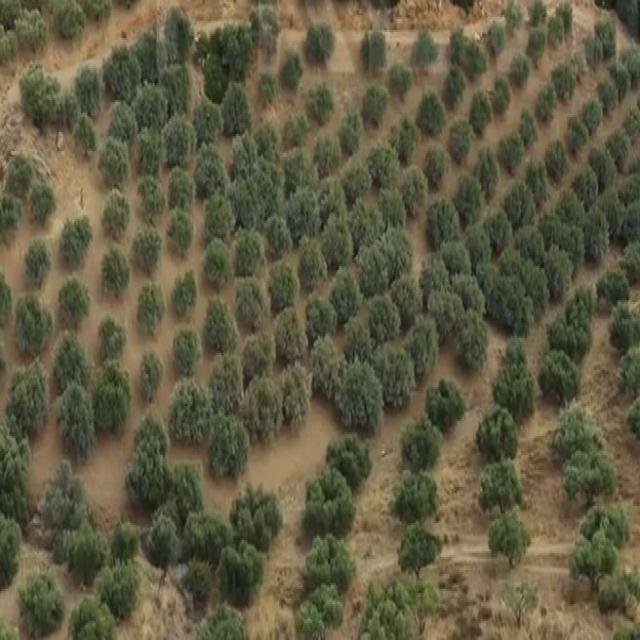trees: (125, 414, 173, 511), (564, 507, 626, 582), (360, 570, 430, 636), (13, 568, 71, 640), (95, 560, 153, 628), (300, 469, 358, 536), (482, 568, 546, 628), (36, 462, 86, 538), (472, 400, 526, 468), (562, 451, 622, 512), (227, 159, 283, 224), (552, 395, 610, 456), (0, 415, 33, 521), (12, 291, 57, 367), (358, 221, 412, 284), (240, 375, 285, 449), (472, 452, 528, 511), (485, 509, 536, 573), (337, 357, 381, 431), (167, 377, 213, 446), (500, 248, 546, 316), (52, 329, 97, 398), (536, 343, 581, 411), (492, 334, 538, 400), (53, 384, 96, 454), (306, 524, 356, 584), (61, 516, 106, 582), (232, 482, 282, 540), (6, 359, 48, 428), (208, 412, 250, 481), (379, 331, 414, 412), (93, 364, 132, 436), (397, 417, 448, 471), (395, 468, 446, 520), (217, 545, 270, 595), (198, 288, 239, 352), (492, 279, 532, 344), (286, 178, 324, 245), (189, 603, 257, 640), (427, 370, 468, 430), (398, 524, 440, 582), (277, 358, 312, 427), (294, 587, 342, 637), (20, 66, 59, 127), (18, 227, 58, 286), (96, 38, 136, 96), (575, 204, 610, 270), (65, 596, 118, 639), (23, 175, 71, 222), (186, 504, 238, 547), (328, 426, 370, 479), (277, 298, 311, 362), (602, 299, 640, 356), (92, 305, 126, 368), (264, 257, 304, 309), (204, 350, 241, 406), (59, 274, 94, 332), (426, 191, 460, 250), (235, 272, 270, 329), (313, 330, 345, 392), (167, 456, 206, 506), (136, 339, 166, 404), (61, 210, 94, 269), (331, 264, 364, 323), (241, 325, 276, 380), (458, 306, 490, 366), (164, 114, 200, 167), (131, 218, 165, 274), (410, 310, 438, 378), (103, 516, 141, 566), (178, 556, 219, 602), (549, 312, 590, 358), (99, 182, 132, 239), (595, 261, 633, 310), (101, 236, 132, 296), (296, 230, 327, 290), (164, 57, 196, 115), (200, 188, 235, 241), (320, 208, 353, 264), (250, 4, 283, 59), (162, 205, 199, 254), (134, 282, 168, 335), (415, 82, 449, 135), (318, 173, 352, 226), (199, 232, 235, 282), (48, 0, 88, 45), (0, 519, 31, 577), (219, 80, 251, 136), (2, 147, 39, 195), (564, 278, 598, 330), (411, 20, 442, 77), (231, 224, 266, 274), (195, 142, 228, 195), (130, 78, 167, 125), (135, 174, 165, 231), (171, 320, 202, 375), (148, 517, 180, 569), (95, 141, 131, 187), (301, 20, 337, 66), (455, 266, 486, 319), (135, 19, 160, 84), (336, 98, 364, 156), (472, 142, 502, 196), (542, 130, 572, 184), (228, 129, 262, 176), (341, 154, 375, 201), (137, 120, 165, 177), (482, 205, 517, 250), (71, 63, 102, 113), (369, 288, 400, 338), (342, 315, 377, 359), (446, 116, 477, 165), (519, 158, 550, 207), (432, 290, 462, 340), (506, 177, 536, 227), (350, 193, 381, 241), (165, 8, 192, 63), (168, 270, 200, 316), (310, 127, 340, 176), (454, 173, 484, 222), (420, 138, 450, 186), (512, 97, 540, 148), (261, 208, 292, 254), (306, 287, 337, 333), (389, 113, 418, 162), (375, 180, 405, 227), (554, 224, 584, 271), (546, 244, 572, 298), (284, 139, 313, 187), (192, 88, 222, 134), (593, 188, 623, 234), (354, 24, 386, 67), (494, 128, 526, 171), (466, 79, 491, 134), (367, 138, 398, 182), (107, 95, 136, 142), (554, 182, 583, 229), (385, 62, 415, 107), (400, 164, 428, 212), (617, 382, 640, 439), (604, 121, 630, 171), (588, 141, 614, 190), (360, 81, 387, 128), (283, 101, 310, 147), (442, 57, 467, 105), (168, 159, 194, 205), (548, 61, 577, 102), (282, 46, 306, 95), (463, 35, 488, 81), (464, 224, 492, 265), (0, 186, 19, 245), (512, 225, 544, 260), (590, 74, 616, 117), (18, 9, 45, 50), (621, 37, 640, 95), (76, 110, 102, 152), (610, 349, 640, 385), (486, 15, 510, 60), (524, 29, 548, 74), (397, 269, 423, 310), (578, 90, 602, 134), (253, 121, 280, 160), (594, 13, 621, 52), (563, 111, 589, 151), (582, 25, 604, 71), (555, 3, 579, 45), (501, 0, 526, 40), (487, 74, 512, 114), (574, 162, 601, 198), (420, 255, 446, 291), (536, 82, 558, 124), (308, 84, 335, 118), (511, 49, 534, 85), (448, 21, 470, 58), (526, 0, 554, 29), (58, 86, 78, 126), (609, 58, 630, 96), (257, 69, 279, 105), (442, 242, 467, 272), (618, 204, 640, 238), (625, 96, 640, 144), (622, 161, 639, 200), (546, 16, 564, 52), (539, 205, 561, 232), (478, 260, 499, 286)
